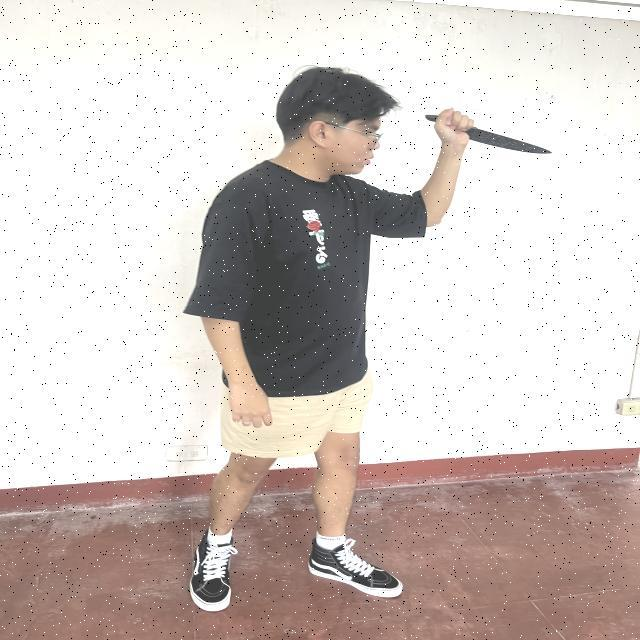knife: (426, 114, 551, 156)
non-violence: (181, 63, 551, 614)
